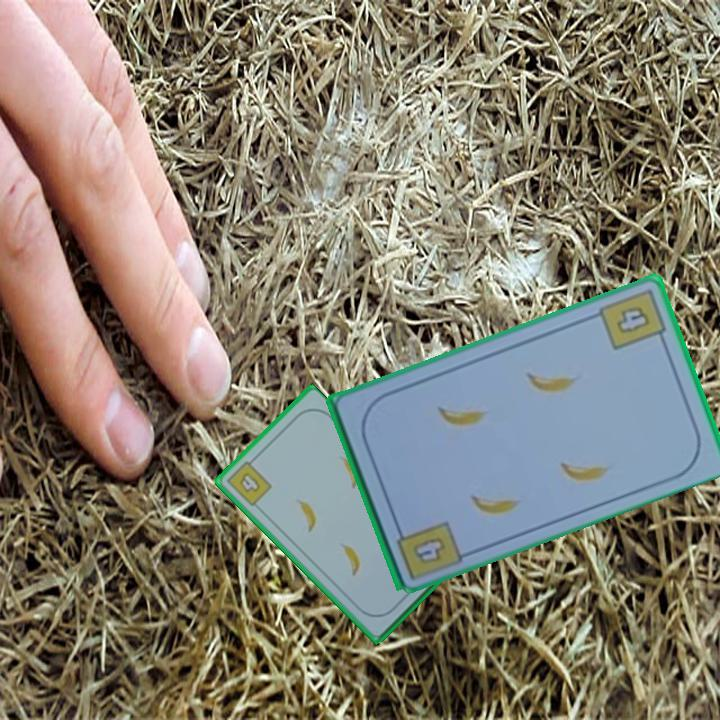4b: (595, 285, 669, 353), (223, 454, 275, 510), (409, 532, 449, 567)
